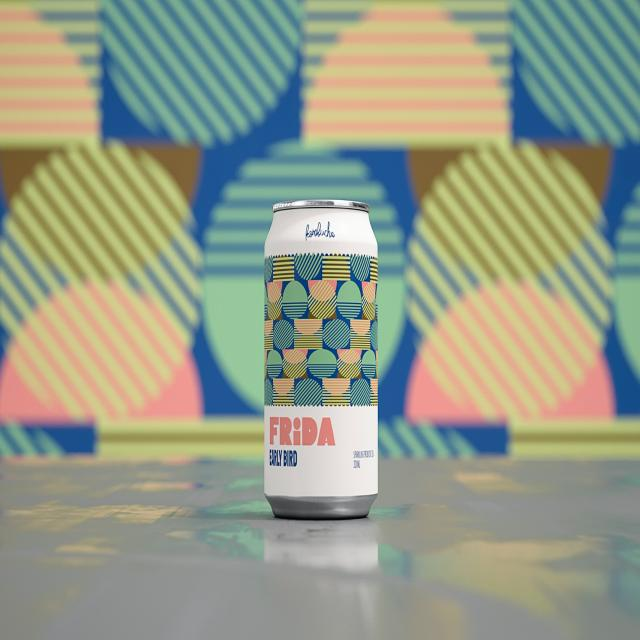can: (260, 198, 381, 521)
